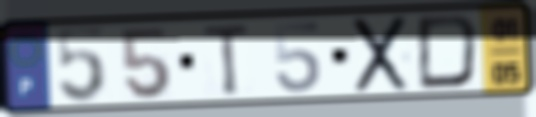5: (55, 24, 111, 106), (118, 25, 175, 102), (272, 19, 323, 95)
D: (415, 12, 482, 92)
T: (201, 21, 253, 99)
X: (351, 13, 411, 96)
